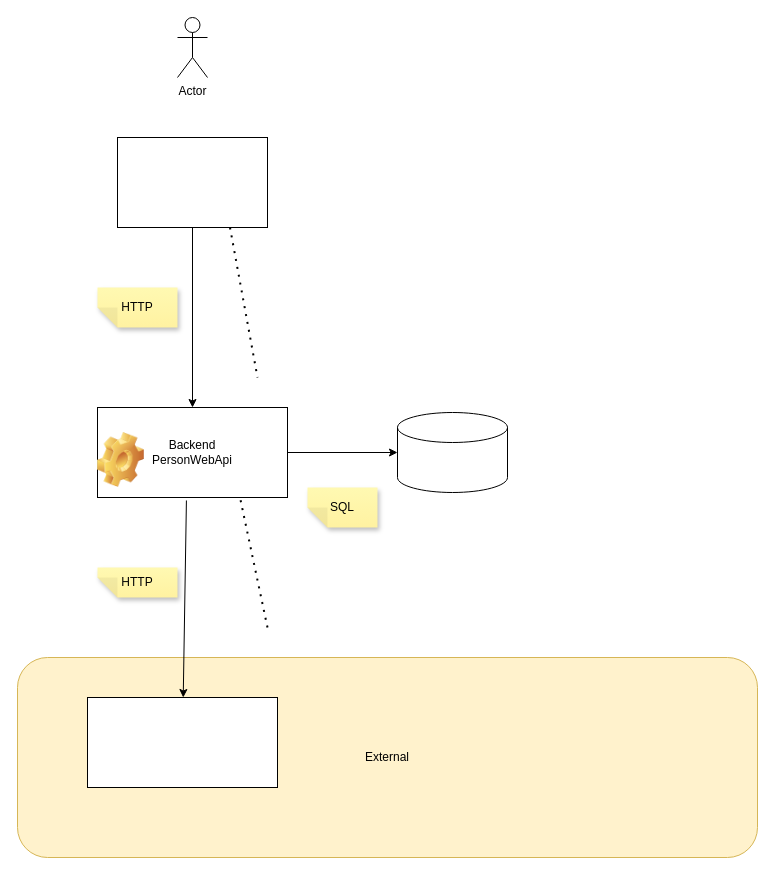
This 775x875 diagram has some shape labels left out. Each missing label, with the centre of its shape:
"External AddressWebApi" goes at point 182,742.
"Front" goes at point 192,182.
"SQLServer PersonContext" goes at point 452,452.
